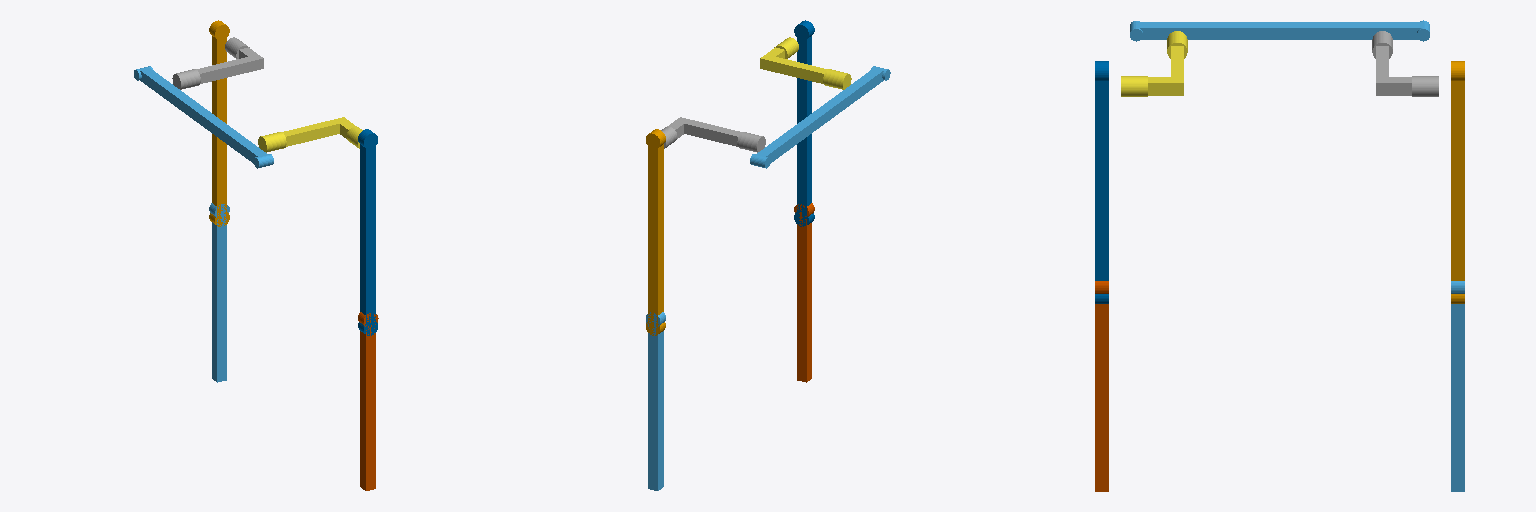
The robot description file, URDF, robot "rdc_biped_robot":
<?xml version="1.0"?>

<robot name="rdc_biped_robot">


<!-- Base -->

  <link name="base_link"/>
  <joint name="CPG" type="fixed">
    <parent link="base_link"/>
    <child link="body"/>
    <origin rpy="0 0 0" xyz="0 0 0.333"/>
  </joint>


<!-- Body -->

  <link name="body">
    <visual>
      <origin rpy="0 0 0" xyz="-0.091 0 0"/>
      <geometry>
        <mesh filename="meshes/stl/body.stl" scale="1 1 1"/>
      </geometry>
    </visual>
    <collision>
       <origin rpy="0 0 0" xyz="-0.091 0 0"/>
      <geometry>      
        <mesh filename="meshes/stl/body.stl" scale="1 1 1"/>
      </geometry>
    </collision>
    <inertial>
      <origin xyz="0 0 0"/>
      <mass value="1.128279"/>
      <inertia ixx="0.007256487589" ixy="0.0" ixz="0.0" iyy="0.014750857631" iyz="0.0" izz="0.010668084267"/>
    </inertial>
  </link>

  <joint name="luggage" type="fixed">
    <parent link="body"/>
    <child link="body_luggage"/>
    <origin rpy="0 0 0" xyz="-0.091 0 0"/>
  </joint>

  <link name="body_luggage">
    <visual>
      <origin rpy="0 0 0" xyz="0.085 0 0.185"/>
      <geometry>
        <mesh filename="meshes/stl/body_luggage.stl" scale="1 1 1"/>
      </geometry>
    </visual>
    <collision>
      <origin rpy="0 0 0" xyz="0.085 0 0.185"/>
      <geometry>
        <mesh filename="meshes/stl/body_luggage.stl" scale="1 1 1"/>
      </geometry>
    </collision>
    <inertial>
      <origin xyz="0 0 0"/>
      <mass value="6.002284"/>
      <inertia ixx="0.021219922175" ixy="0.0" ixz="0.0" iyy="0.059412361786" iyz="0.0" izz="0.056129347719"/>
    </inertial>
  </link>


<!-- Right Leg -->

  <joint name="r_waist_roll" type="revolute">
    <parent link="body"/>
    <child link="r_wr2wp"/>
    <origin rpy="0 0 0" xyz="-0.091 -0.075 0"/>
    <axis xyz="1 0 0"/>
    <limit effort="7.2" lower="-6.28" upper="6.28" velocity="11.519173063"/>
  </joint>

  <link name="r_wr2wp">
    <visual>
      <origin rpy="0 0 0" xyz="0.091 0.00 0.00"/>
      <geometry>
        <mesh filename="meshes/stl/link_wr2wp_r.stl" scale="1 1 1"/>
      </geometry>
    </visual>
    <collision>
      <origin rpy="0 0 0" xyz="0.091 0.00 0.00"/>
      <geometry>
        <mesh filename="meshes/stl/link_wr2wp_r.stl" scale="1 1 1"/>
      </geometry>
   </collision>
    <inertial>
      <origin xyz="0 0 0"/>
      <mass value="1.463019"/>
      <inertia ixx="0.001749718494" ixy="0.0" ixz="0.0" iyy="0.003223385949" iyz="0.0" izz="0.003263127737"/>
    </inertial>
 </link>

  <joint name="r_waist_pitch" type="revolute">
    <parent link="r_wr2wp"/>
    <child link="r_wp2kp"/>
    <origin rpy="0 0 0" xyz="0.091 -0.055 0.00"/>
    <axis xyz="0 1 0"/>
     <limit effort="7.2" lower="-6.28" upper="6.28" velocity="11.519173063"/>
  </joint>

  <link name="r_wp2kp">
    <visual>
      <origin rpy="0 0 0" xyz="0 0 -0.08"/>
      <geometry>
        <mesh filename="meshes/stl/link_wp2kp.stl" scale="1 1 1"/>
      </geometry>
    </visual>
    <collision>
      <origin rpy="0 0 0" xyz="0 0 -0.08"/>
      <geometry>
        <mesh filename="meshes/stl/link_wp2kp.stl" scale="1 1 1"/>
      </geometry>
    </collision>
    <inertial>
      <origin xyz="0 0 0"/>
      <mass value="0.581098"/>
      <inertia ixx="0.00300565539" ixy="0.0" ixz="0.0" iyy="0.00339409955" iyz="0.0" izz="0.000580175165"/>
    </inertial>
 </link>

  <joint name="r_knee_pitch" type="revolute">
    <parent link="r_wp2kp"/>
    <child link="r_kp2heel"/>
    <origin rpy="0 0 0" xyz="0 0 -0.16"/>
    <axis xyz="0 1 0"/>
     <limit effort="7.2" lower="-6.28" upper="6.28" velocity="11.519173063"/>
  </joint>
  
  <link name="r_kp2heel">
    <visual>
      <origin rpy="0 0 0" xyz="0 0 -0.0746675"/>
      <geometry>
        <mesh filename="meshes/stl/link_kp2heel.stl" scale="1 1 1"/>
      </geometry>
    </visual>
    <collision>
      <origin rpy="0 0 0" xyz="0 0 -0.0746675"/>
      <geometry>
        <mesh filename="meshes/stl/link_kp2heel.stl" scale="1 1 1"/>
      </geometry>
    </collision>
    <inertial>
      <origin xyz="0 0 0"/>
      <mass value="0.199496"/>
      <inertia ixx="0.000038569077" ixy="0.0" ixz="0.0" iyy="0.000690047835" iyz="0.0" izz="0.000672474784"/>
    </inertial>
 </link>

  <joint name="r_ankle" type="fixed">
    <parent link="r_kp2heel"/>
    <child link="r_heel2end"/>
    <origin rpy="0 0 0" xyz="0 0 -0.149335"/>
  </joint>

  <link name="r_heel2end">
     <visual>
      <origin rpy="0 0 0" xyz="0 0 0"/>
      <geometry>
        <mesh filename="meshes/stl/link_heel2end.stl" scale="1 1 1"/>
      </geometry>
    </visual>
    <collision>
      <origin rpy="0 0 0" xyz="0 0 0"/>
      <geometry>
        <mesh filename="meshes/stl/link_heel2end.stl" scale="1 1 1"/>
      </geometry>
    </collision>
    <inertial>
      <origin xyz="0 0 0"/>
      <mass value="0.0"/>
      <inertia ixx="0.0" ixy="0.0" ixz="0.0" iyy="0.0" iyz="0.0" izz="0.0"/>
      <!--<mass value="0.1"/>-->
      <!--<inertia ixx="0.01" ixy="0.0" ixz="0.0" iyy="0.01" iyz="0.0" izz="0.01"/>-->
    </inertial>
  </link>


<!-- Left Leg -->

  <joint name="l_waist_roll" type="revolute">
    <parent link="body"/>
    <child link="l_wr2wp"/>
    <origin rpy="0 0 0" xyz="-0.091 0.075 0"/>
    <axis xyz="1 0 0"/>
    <limit effort="7.2" lower="-6.28" upper="6.28" velocity="11.519173063"/>
  </joint>

  <link name="l_wr2wp">
    <visual>
      <origin rpy="0 0 0" xyz="0.091 0.00 0.00"/>
      <geometry>
        <mesh filename="meshes/stl/link_wr2wp_l.stl" scale="1 1 1"/>
      </geometry>
    </visual>
    <collision>
      <origin rpy="0 0 0" xyz="0.091 0.00 0.00"/>
      <geometry>
        <mesh filename="meshes/stl/link_wr2wp_l.stl" scale="1 1 1"/>
      </geometry>
   </collision>
    <inertial>
      <origin xyz="0 0 0"/>
      <mass value="1.463019"/>
      <inertia ixx="0.001749718494" ixy="0.0" ixz="0.0" iyy="0.003223385949" iyz="0.0" izz="0.003263127737"/>
    </inertial>
 </link>

  <joint name="l_waist_pitch" type="revolute">
    <parent link="l_wr2wp"/>
    <child link="l_wp2kp"/>
    <origin rpy="0 0 0" xyz="0.091 0.055 0.00"/>
    <axis xyz="0 1 0"/>
     <limit effort="7.2" lower="-6.28" upper="6.28" velocity="11.519173063"/>
  </joint>

  <link name="l_wp2kp">
    <visual>
      <origin rpy="0 0 0" xyz="0 0 -0.08"/>
      <geometry>
        <mesh filename="meshes/stl/link_wp2kp.stl" scale="1 1 1"/>
      </geometry>
    </visual>
    <collision>
      <origin rpy="0 0 0" xyz="0 0 -0.08"/>
      <geometry>
        <mesh filename="meshes/stl/link_wp2kp.stl" scale="1 1 1"/>
      </geometry>
    </collision>
    <inertial>
      <origin xyz="0 0 0"/>
      <mass value="0.581098"/>
      <inertia ixx="0.00300565539" ixy="0.0" ixz="0.0" iyy="0.00339409955" iyz="0.0" izz="0.000580175165"/>
    </inertial>
 </link>

  <joint name="l_knee_pitch" type="revolute">
    <parent link="l_wp2kp"/>
    <child link="l_kp2heel"/>
    <origin rpy="0 0 0" xyz="0 0 -0.16"/>
    <axis xyz="0 1 0"/>
     <limit effort="7.2" lower="-6.28" upper="6.28" velocity="11.519173063"/>
  </joint>
  
  <link name="l_kp2heel">
    <visual>
      <origin rpy="0 0 0" xyz="0 0 -0.0746675"/>
      <geometry>
        <mesh filename="meshes/stl/link_kp2heel.stl" scale="1 1 1"/>
      </geometry>
    </visual>
    <collision>
      <origin rpy="0 0 0" xyz="0 0 -0.0746675"/>
      <geometry>
        <mesh filename="meshes/stl/link_kp2heel.stl" scale="1 1 1"/>
      </geometry>
    </collision>
    <inertial>
      <origin xyz="0 0 0"/>
      <mass value="0.199496"/>
      <inertia ixx="0.000038569077" ixy="0.0" ixz="0.0" iyy="0.000690047835" iyz="0.0" izz="0.000672474784"/>
    </inertial>
 </link>

  <joint name="l_ankle" type="fixed">
    <parent link="l_kp2heel"/>
    <child link="l_heel2end"/>
    <origin rpy="0 0 0" xyz="0 0 -0.149335"/>
  </joint>
  
  <link name="l_heel2end">
     <visual>
      <origin rpy="0 0 0" xyz="0 0 0"/>
      <geometry>
        <mesh filename="meshes/stl/link_heel2end.stl" scale="1 1 1"/>
      </geometry>
    </visual>
    <collision>
      <origin rpy="0 0 0" xyz="0 0 0"/>
      <geometry>
        <mesh filename="meshes/stl/link_heel2end.stl" scale="1 1 1"/>
      </geometry>
    </collision>
    <inertial>
      <origin xyz="0 0 0"/>
      <mass value="0.0"/>
      <inertia ixx="0.0" ixy="0.0" ixz="0.0" iyy="0.0" iyz="0.0" izz="0.0"/>
      <!--<mass value="0.1"/>-->
      <!--<inertia ixx="0.01" ixy="0.0" ixz="0.0" iyy="0.01" iyz="0.0" izz="0.01"/>-->
    </inertial>
  </link>

</robot>

--- What the picture shows (computed from the rendered views, not written in the file) ---
The picture shows the robot from 3 angles, left to right: view 1: azimuth 30°, elevation 25°; view 2: azimuth 150°, elevation 25°; view 3: azimuth 270°, elevation 25°; orthographic projection.
Model rdc_biped_robot with 11 links and 10 joints (6 revolute, 4 fixed), rooted at base_link, posed every joint at zero.
Links seen in each view (by area): view 1: r_wp2kp, r_kp2heel, body, l_kp2heel, l_wp2kp, l_wr2wp, r_wr2wp; view 2: l_wp2kp, l_kp2heel, body, r_kp2heel, r_wp2kp, r_wr2wp, l_wr2wp; view 3: body, r_wp2kp, l_wp2kp, r_kp2heel, l_kp2heel, r_wr2wp, l_wr2wp.
Boxes of the visible links, x1=… form: r_wp2kp: x1=358, y1=129, x2=377, y2=335; r_kp2heel: x1=358, y1=312, x2=378, y2=490; body: x1=134, y1=66, x2=273, y2=168; l_kp2heel: x1=209, y1=203, x2=229, y2=382; l_wp2kp: x1=209, y1=20, x2=229, y2=226; l_wr2wp: x1=172, y1=37, x2=263, y2=89; r_wr2wp: x1=258, y1=117, x2=362, y2=152; l_wp2kp: x1=646, y1=129, x2=665, y2=335; l_kp2heel: x1=646, y1=312, x2=665, y2=490; body: x1=750, y1=66, x2=890, y2=168; r_kp2heel: x1=794, y1=203, x2=814, y2=382; r_wp2kp: x1=794, y1=20, x2=814, y2=226; r_wr2wp: x1=760, y1=37, x2=851, y2=89; l_wr2wp: x1=661, y1=117, x2=765, y2=152; body: x1=1130, y1=20, x2=1429, y2=41; r_wp2kp: x1=1095, y1=61, x2=1108, y2=303; l_wp2kp: x1=1451, y1=61, x2=1464, y2=303; r_kp2heel: x1=1095, y1=281, x2=1108, y2=491; l_kp2heel: x1=1451, y1=281, x2=1464, y2=491; r_wr2wp: x1=1121, y1=31, x2=1187, y2=96; l_wr2wp: x1=1372, y1=31, x2=1438, y2=96.
Bounding box of the posed robot: 0.111 × 0.27 × 0.3441 m (x, y, z).
7 mesh visuals loaded from 7 distinct referenced files (5 binary STL); not drawn: 3 (reference not matched to a file when rendering).